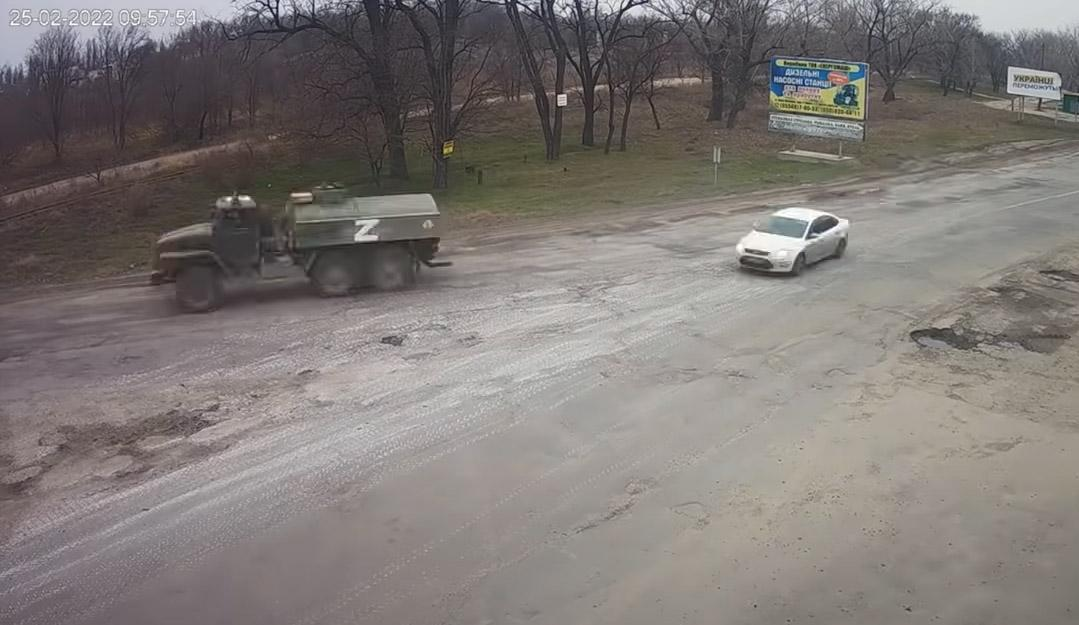car: (728, 192, 853, 284)
truck: (134, 192, 448, 292)
